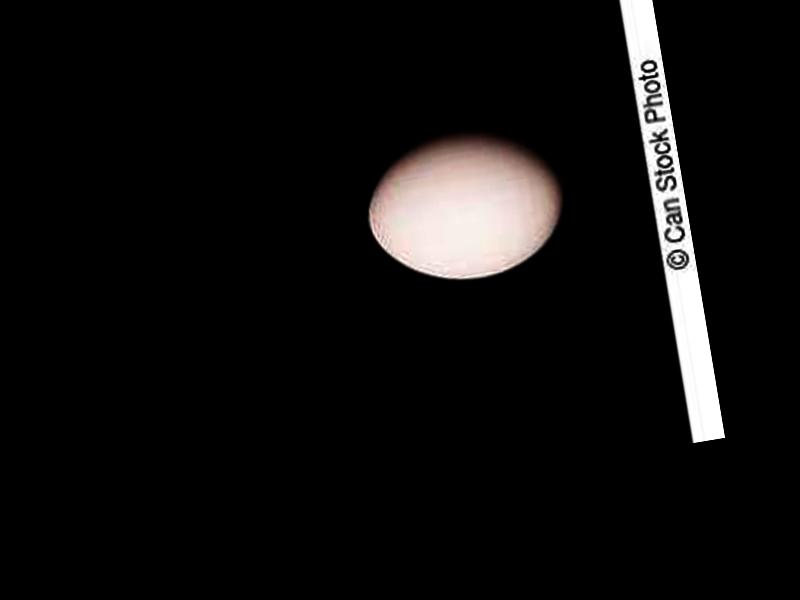Eggs: (356, 117, 578, 294)
